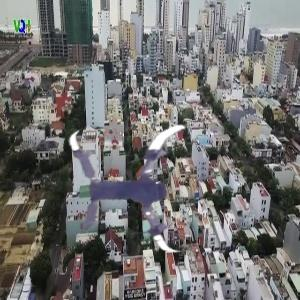drone: (68, 116, 217, 265)
